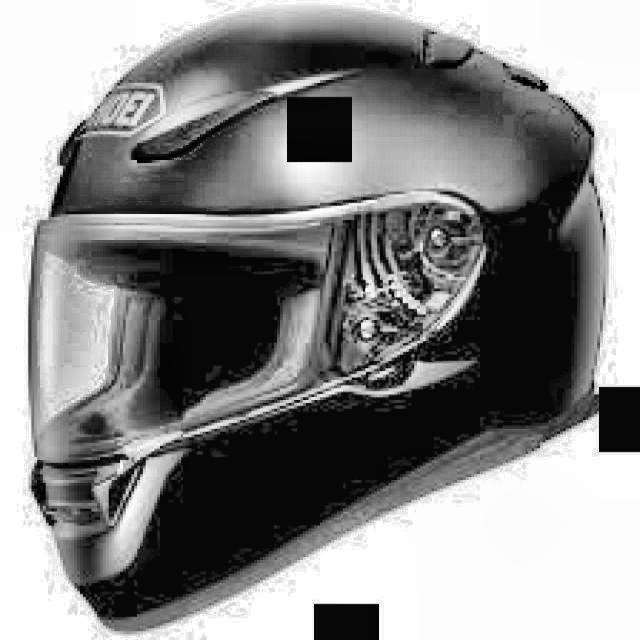Helmet: (22, 18, 602, 622)
